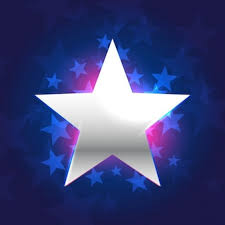star: (31, 35, 194, 191)
